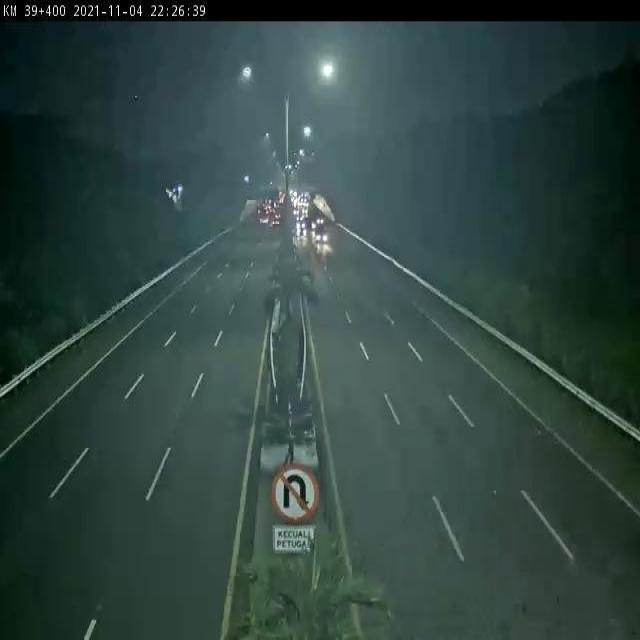Car: (269, 200, 283, 227), (256, 202, 272, 224), (312, 227, 328, 248), (277, 191, 286, 205)
